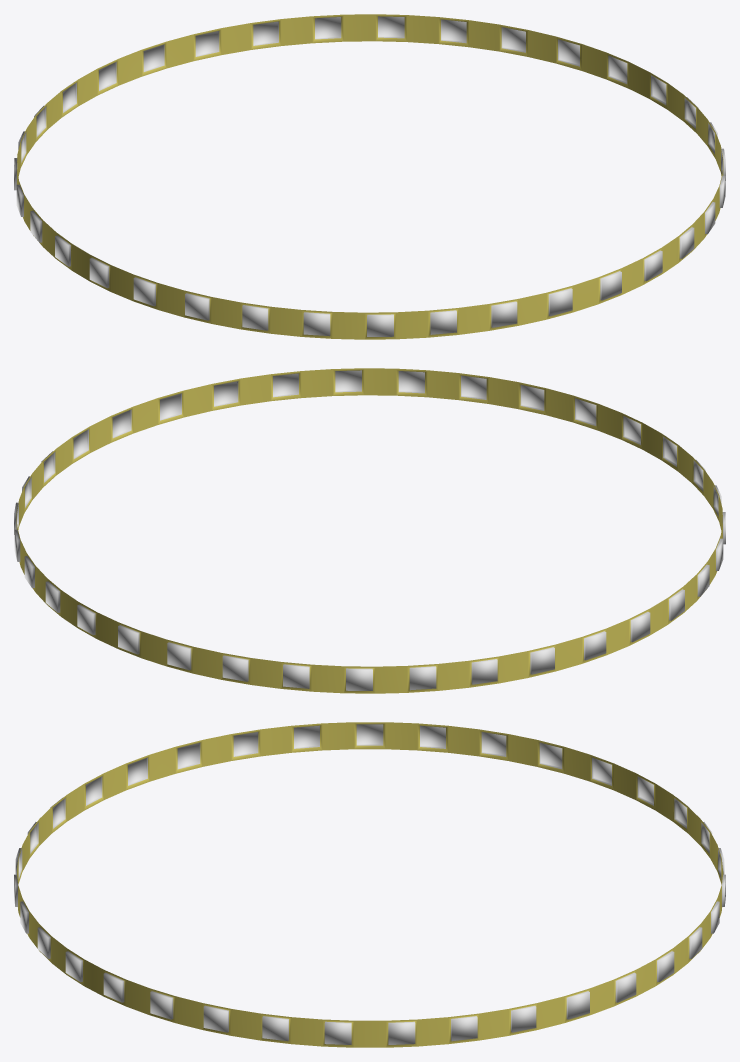
File: WallsWithWindows.fbx
The picture shows the model from 3 angles, top to bottom: view 1: azimuth 30°, elevation 25°; view 2: azimuth 150°, elevation 25°; view 3: azimuth 270°, elevation 25°; orthographic projection.
Parts seen in each view (by area): view 1: WallsWithWindows; view 2: WallsWithWindows; view 3: WallsWithWindows.
Part boxes in pixels (left/top/right/bottom): WallsWithWindows: left=14, top=14, right=725, bottom=339; WallsWithWindows: left=14, top=368, right=725, bottom=693; WallsWithWindows: left=14, top=722, right=725, bottom=1047.
Bounding box in the file's own units: 14160 × 595 × 14159.
